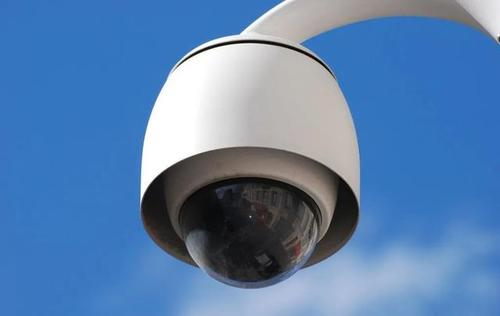camera: (149, 34, 346, 292)
